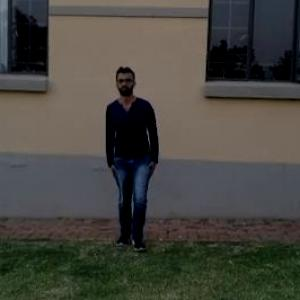follow: (95, 51, 168, 282)
